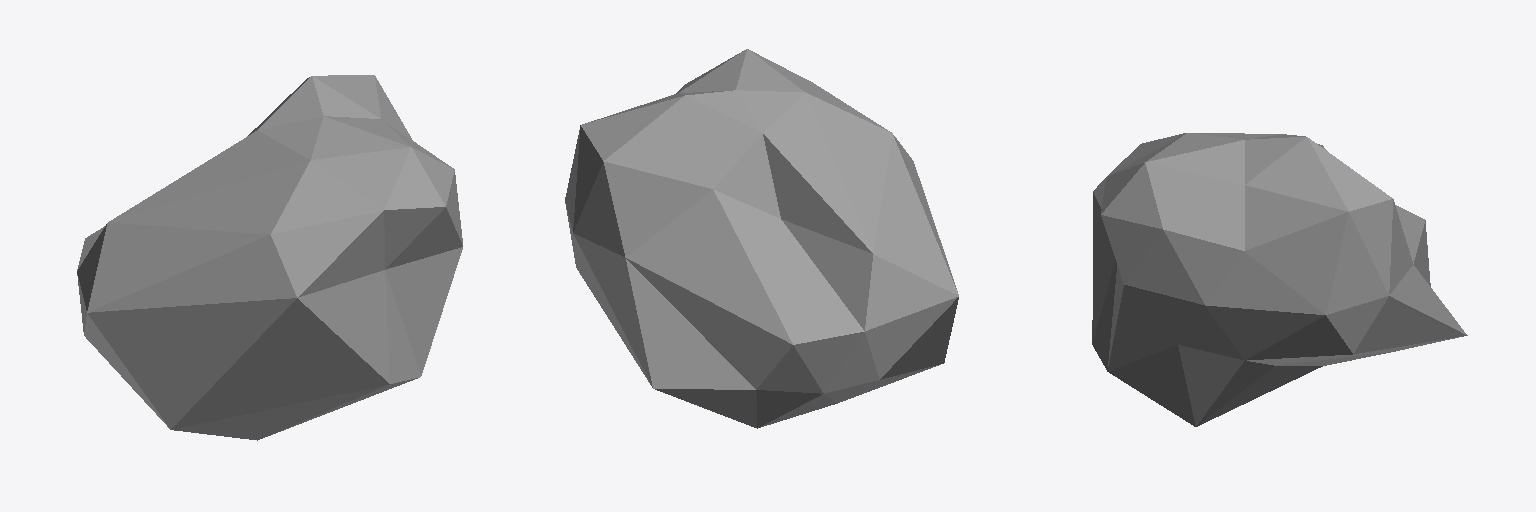
The model's file is asteroid_1.obj.
3 views of the same model, side by side, from view 1: azimuth 30°, elevation 25°; view 2: azimuth 150°, elevation 25°; view 3: azimuth 270°, elevation 25° (orthographic).
Visible parts, largest first — view 1: Icosphere; view 2: Icosphere; view 3: Icosphere.
Boxes of the visible parts, x1,y1,x2,y2 form: Icosphere: [77, 75, 462, 440]; Icosphere: [565, 49, 958, 428]; Icosphere: [1092, 133, 1467, 426].
Bounding box in the file's own units: 3.28 × 2.67 × 2.96.